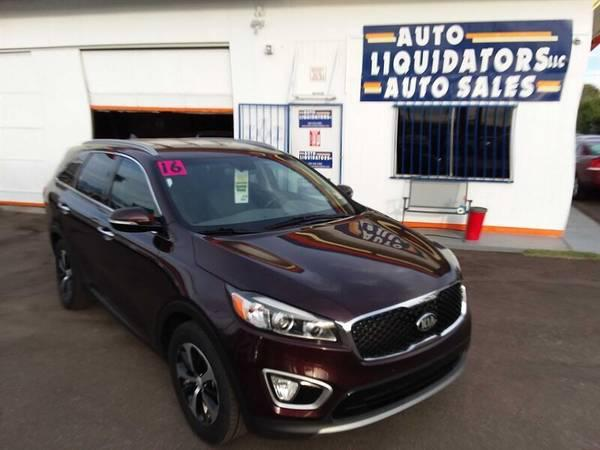Front_Bumper: (218, 308, 476, 435)
Front_Fender: (160, 222, 242, 340)
Front_Right_Door: (91, 210, 168, 354)
Front_Right_Window: (105, 157, 167, 237)
Front_Windshield: (159, 157, 360, 234)
Grille: (343, 280, 471, 362)
Hood: (193, 210, 462, 319)
Rear_Fender: (45, 150, 90, 236)
Rear_Right_Door: (60, 188, 106, 289)
Rear_Right_Window: (70, 151, 123, 206)
Right_Headlight: (235, 285, 349, 350)
Roof: (73, 138, 289, 225)
Wheel: (168, 326, 245, 449), (52, 239, 88, 306)
